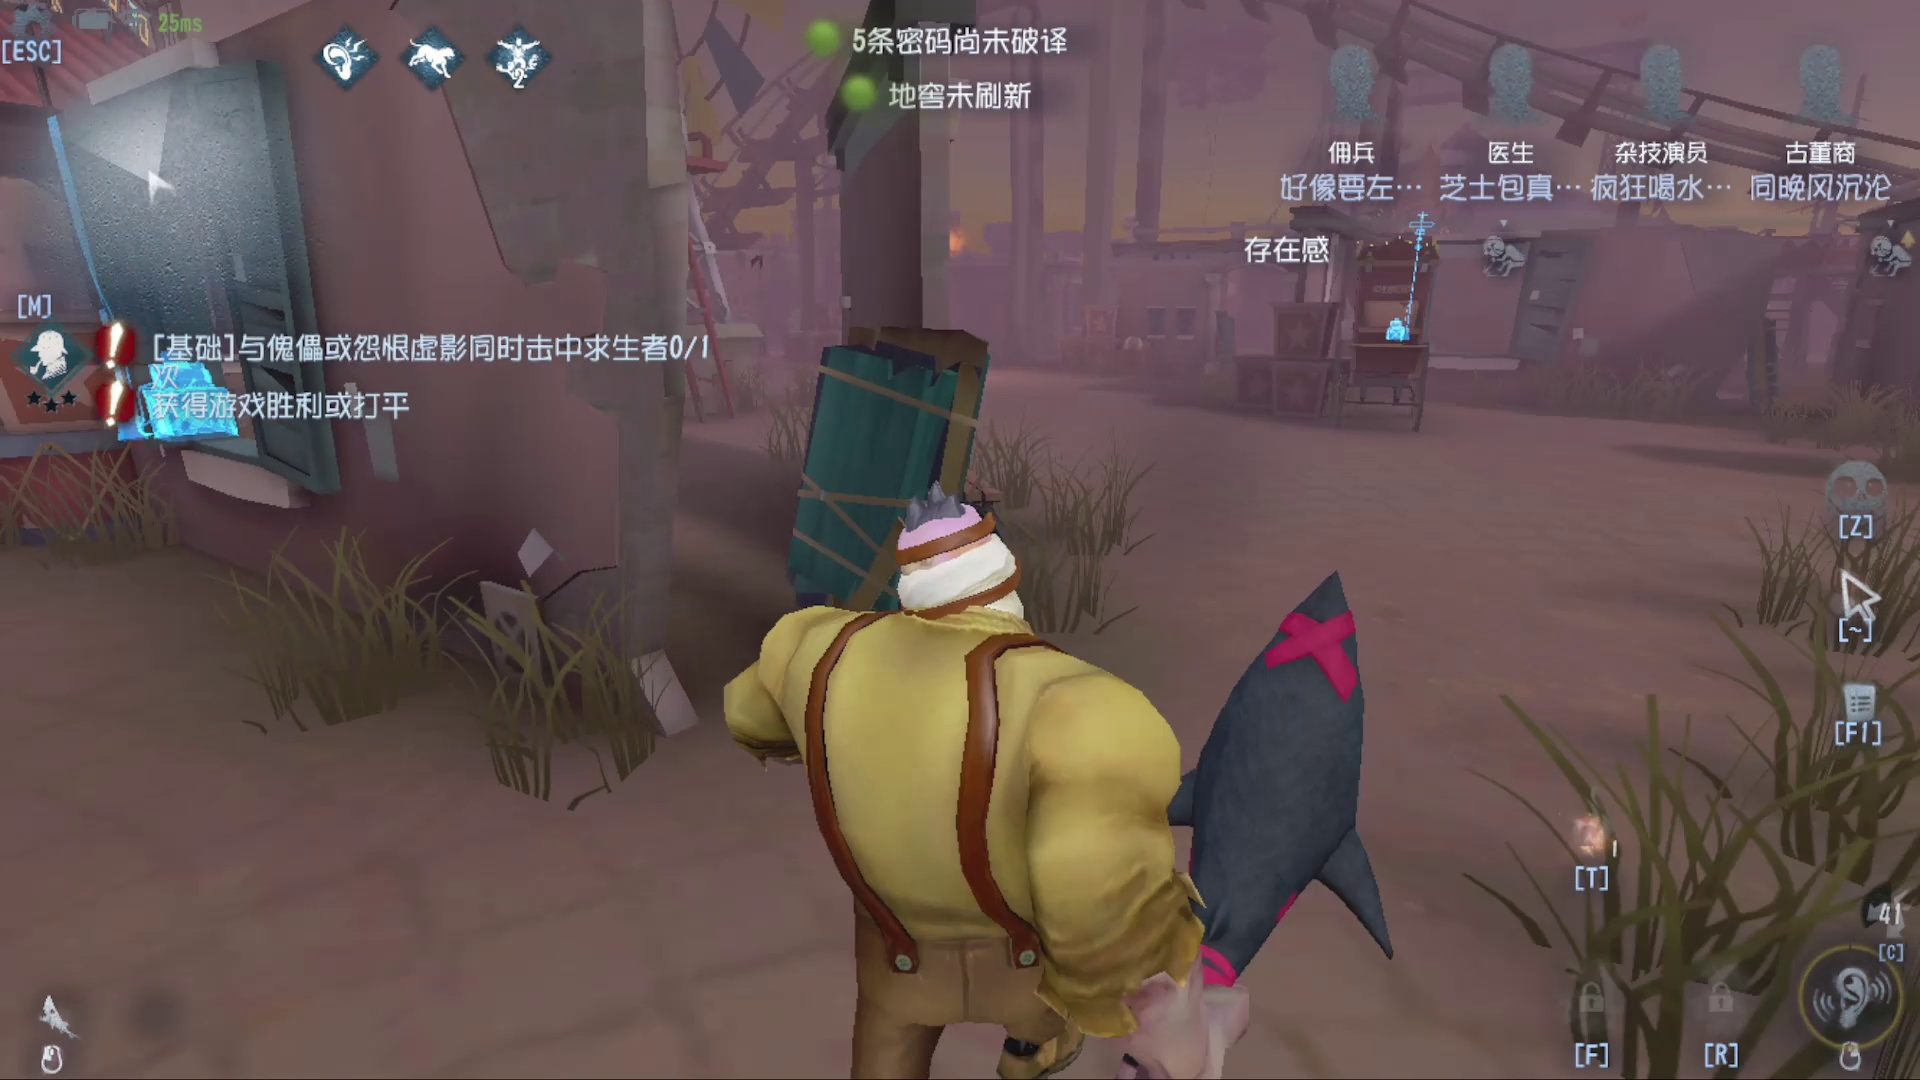密码机: (128, 306, 244, 471), (1375, 208, 1448, 357)
木板: (766, 328, 1000, 651), (1735, 307, 1791, 417), (1209, 301, 1255, 378)
